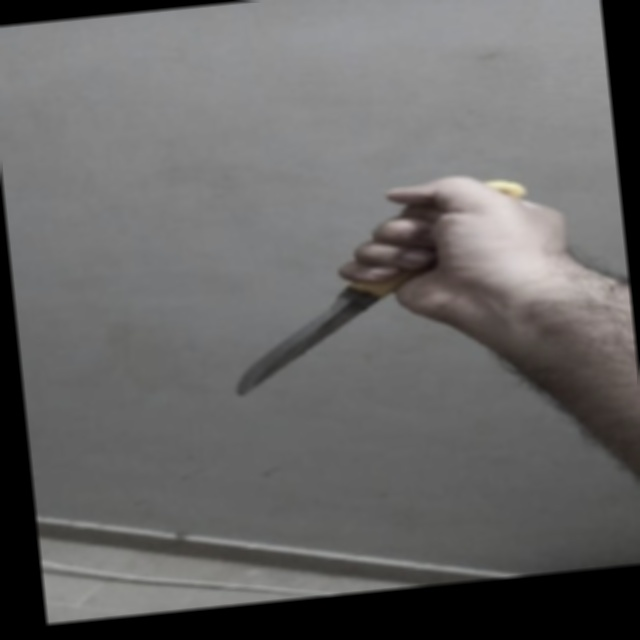Sharp-Object: (218, 178, 543, 396)
